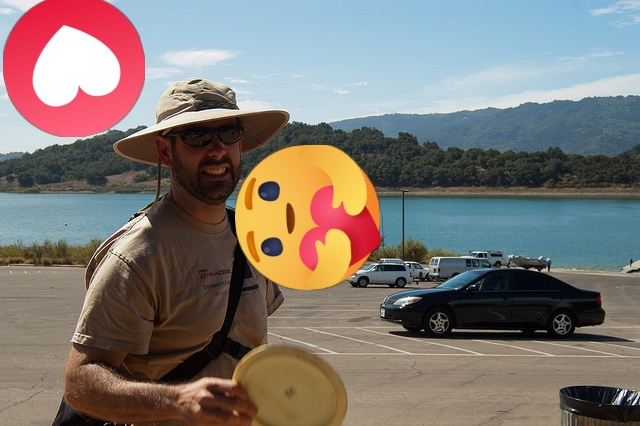care: (235, 145, 380, 290)
love: (3, 0, 145, 137)
